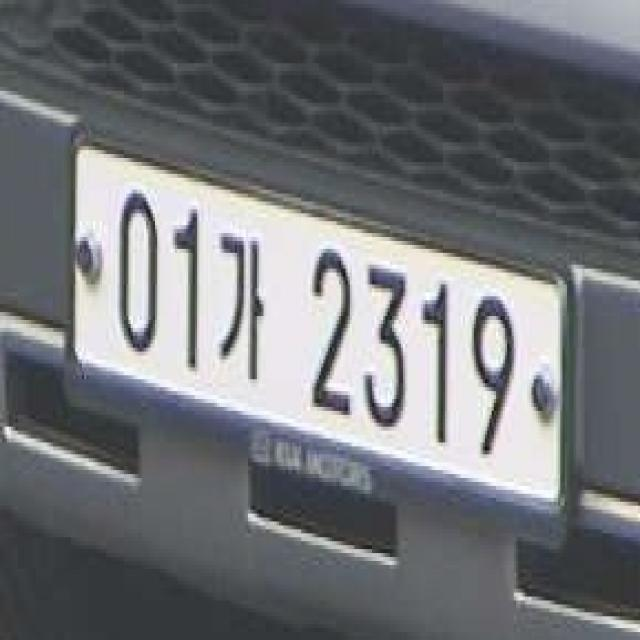0: (112, 172, 162, 370)
1: (418, 268, 460, 458), (171, 194, 203, 382)
2: (300, 239, 358, 426)
3: (362, 254, 415, 442)
9: (466, 279, 524, 471)
ga: (214, 223, 268, 398)
license_plate: (67, 118, 578, 527)
